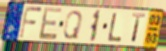1: (91, 9, 102, 44)
E: (38, 6, 64, 41)
F: (18, 5, 44, 40)
L: (106, 12, 123, 43)
Q: (61, 10, 84, 41)
T: (130, 12, 147, 44)
